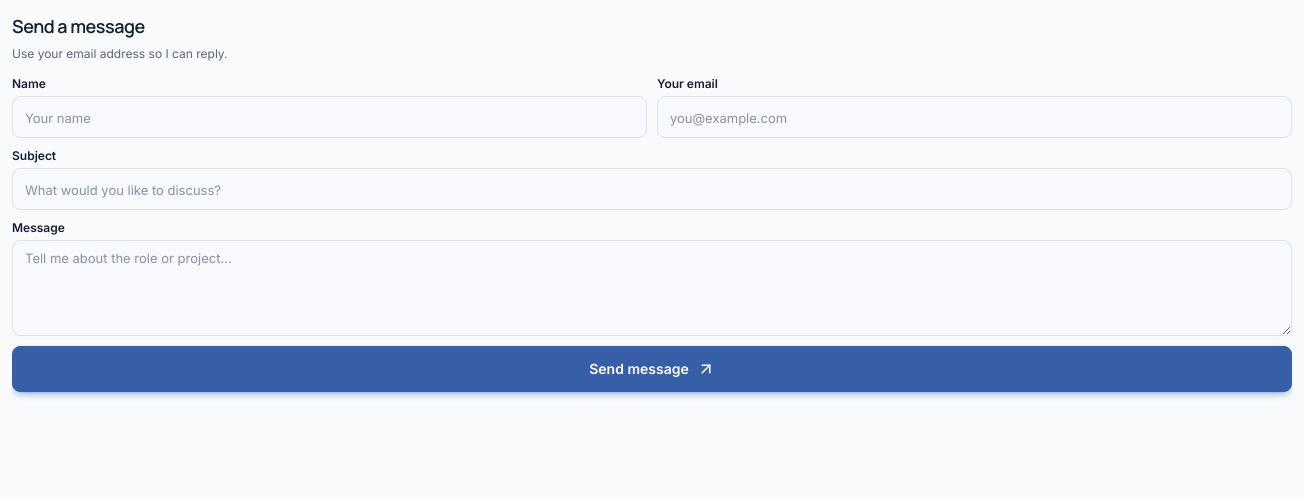
Scenario: ContactForm › shows field errors for an invalid submission
Click the button "Send message": (652, 369) [12, 346, 1292, 392]
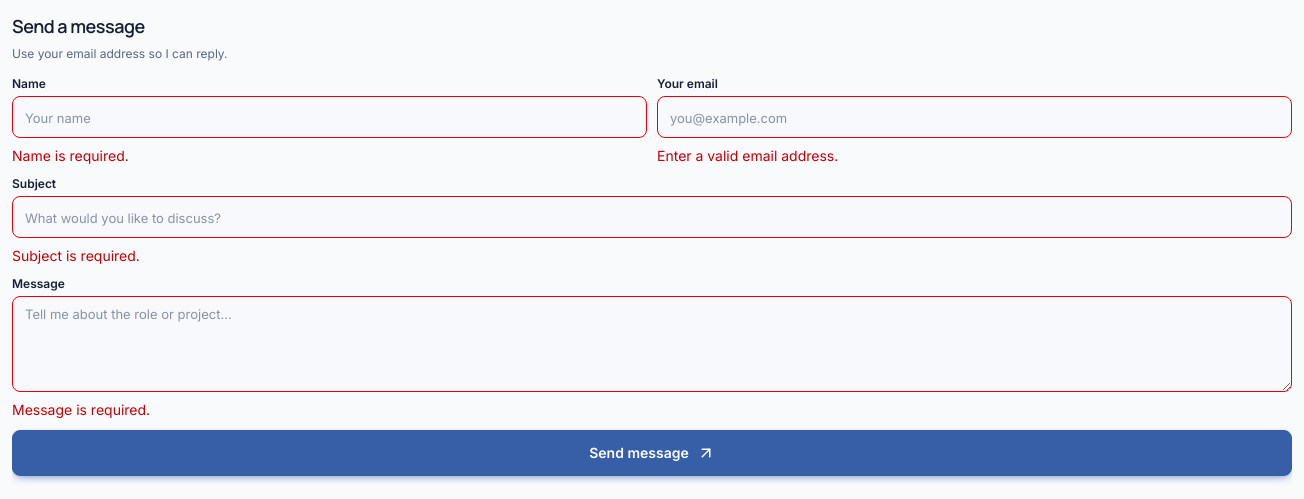
Check: the text "Name is required." is shown, box [12, 147, 129, 164]
Check: the text "Enter a valid email address." is shown, box [657, 147, 838, 164]
